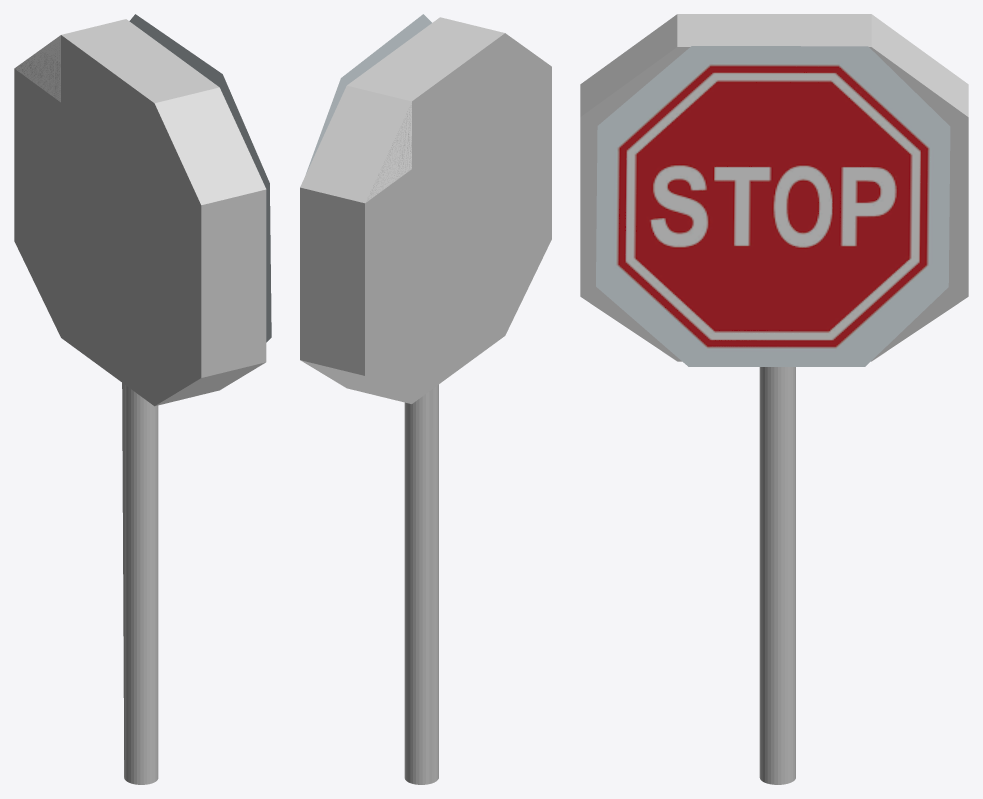
File: semn stop.fbx
3 views of the same model, side by side, from view 1: azimuth 30°, elevation 25°; view 2: azimuth 150°, elevation 25°; view 3: azimuth 270°, elevation 25° (orthographic). The views are drawn at different scales.
Parts seen in each view (by area): view 1: Cylinder, Plane; view 2: Cylinder, Plane; view 3: Plane, Cylinder.
Part boxes in pixels (x1,y1,x2,y2): Cylinder: (14, 19, 266, 784); Plane: (129, 14, 271, 342); Cylinder: (300, 17, 551, 784); Plane: (306, 14, 431, 173); Plane: (596, 46, 950, 366); Cylinder: (580, 14, 968, 784).
Size of the model in its own units: 292 by 2598 by 1216.
